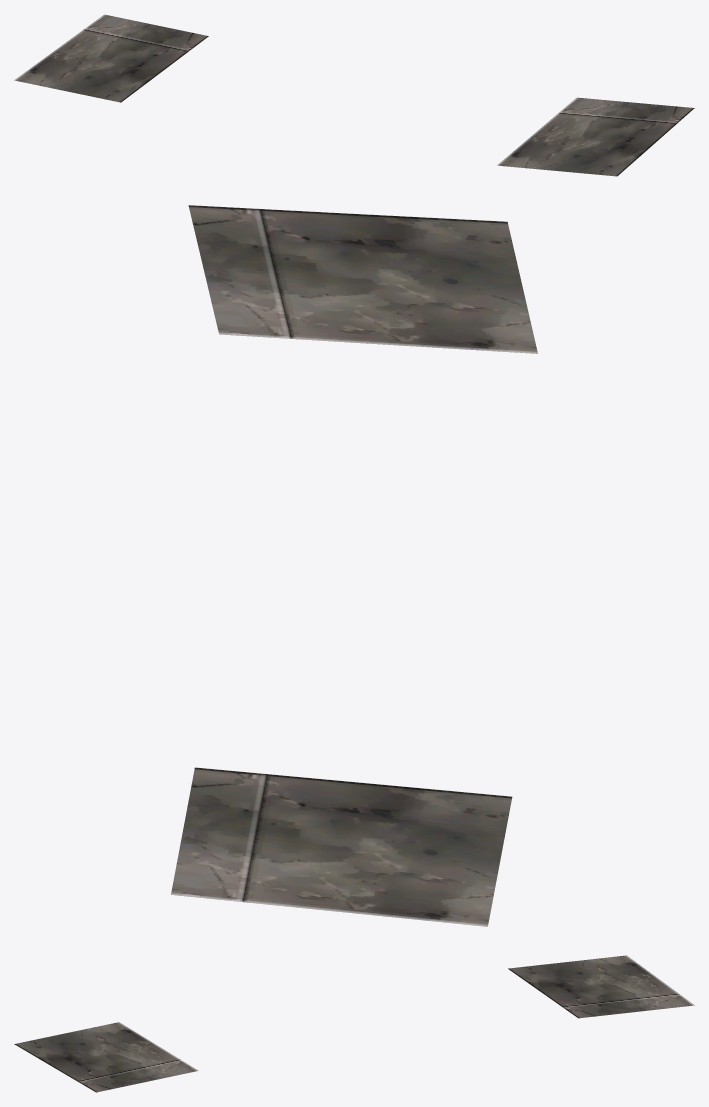
File: CH09_SMAUG_PLAYSURFACE_LAIR136.fbx
3 views of the same model, one above another, from view 1: azimuth 30°, elevation 25°; view 2: azimuth 150°, elevation 25°; view 3: azimuth 270°, elevation 25° (orthographic). The views are drawn at different scales.
Visible parts, largest first — view 1: CH09_SMAUG_PLAYSURFACE_LAIR136; view 2: CH09_SMAUG_PLAYSURFACE_LAIR136; view 3: CH09_SMAUG_PLAYSURFACE_LAIR136.
Part boxes in pixels (x1,y1,x2,y2): CH09_SMAUG_PLAYSURFACE_LAIR136: (14,14,694,176); CH09_SMAUG_PLAYSURFACE_LAIR136: (171,205,537,926); CH09_SMAUG_PLAYSURFACE_LAIR136: (14,955,694,1092).
Size of the model in its own units: 43969 by 6618 by 62476.
1 material, 1 textured.
